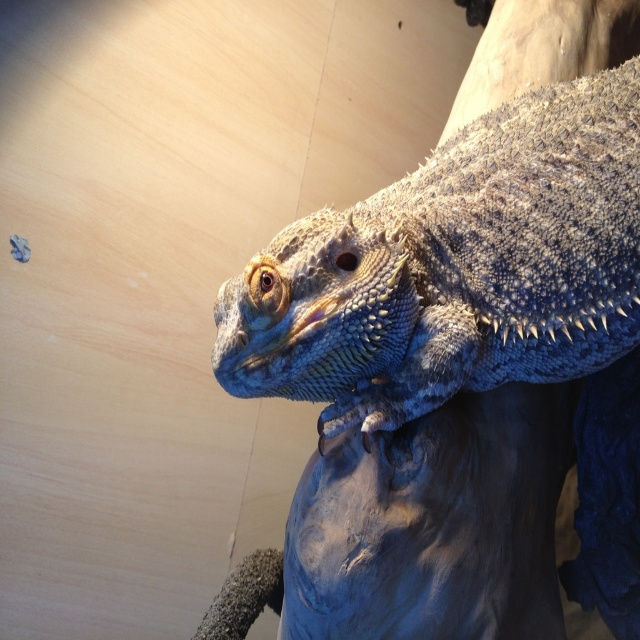Lizard: (218, 53, 638, 622)
